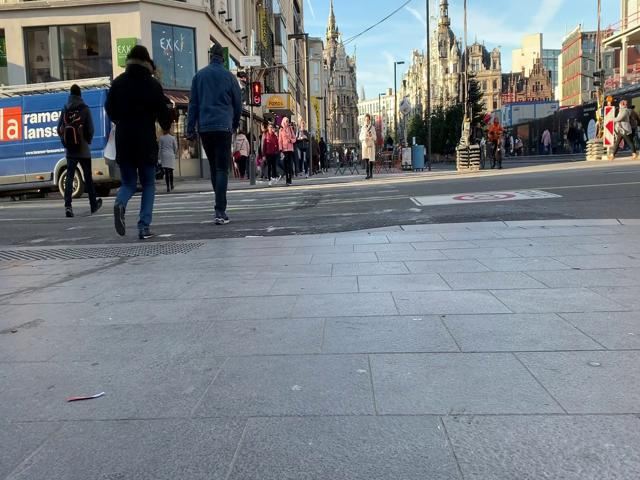shoe: (113, 202, 127, 238), (90, 196, 103, 213), (214, 212, 230, 224), (64, 206, 75, 219), (140, 231, 155, 240)
